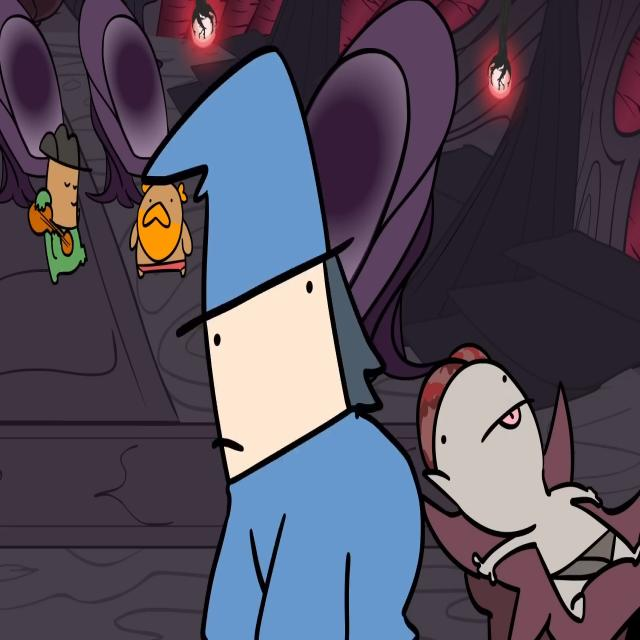Banjovi: (27, 122, 93, 286)
Josh: (142, 41, 426, 640), (129, 182, 194, 280)
